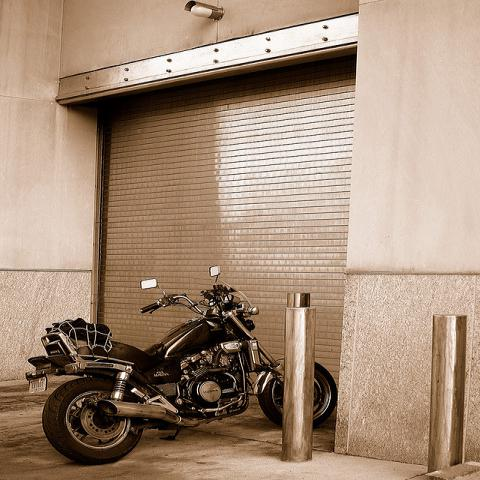motorcycle: (26, 265, 336, 464)
